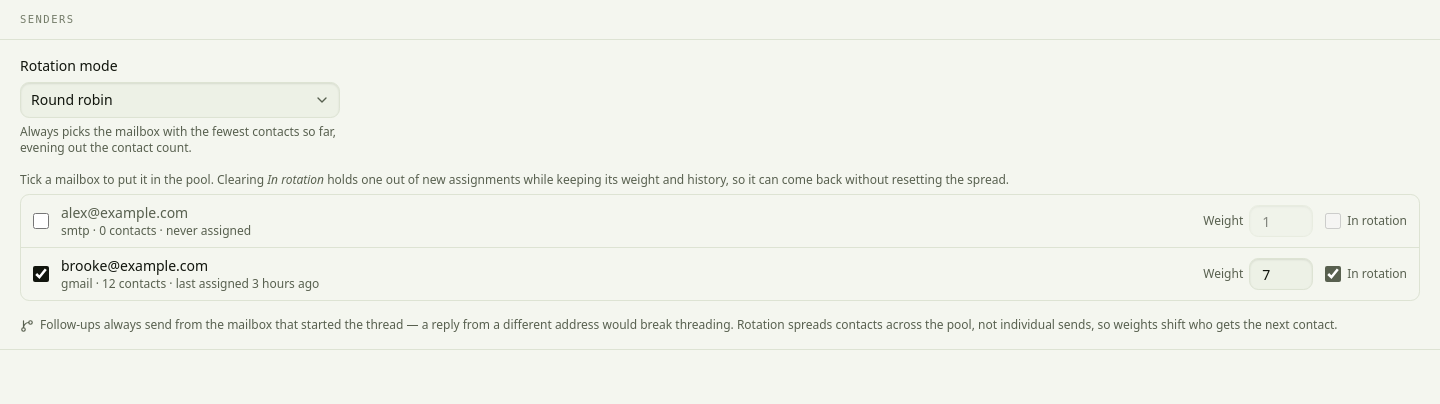
Scenario: SendersPanel › an out-of-range weight is caught client-side before any request
The width and height of the screenshot is (1440, 404).
Expected: the dropdown labelled "Rotation mode" is shown, [20,82,340,118]
Replace the text in the number field named "Weight for brooke@example.com" with "101" at (1281, 274), box [1249,258,1313,290]
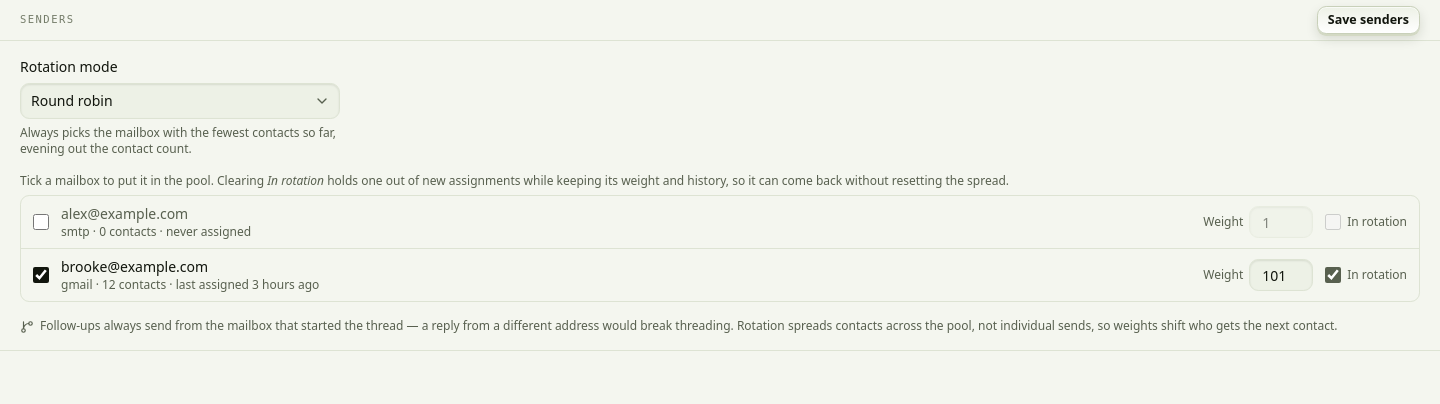
Click the button "Save senders" at (1368, 20), box [1317,6,1420,34]
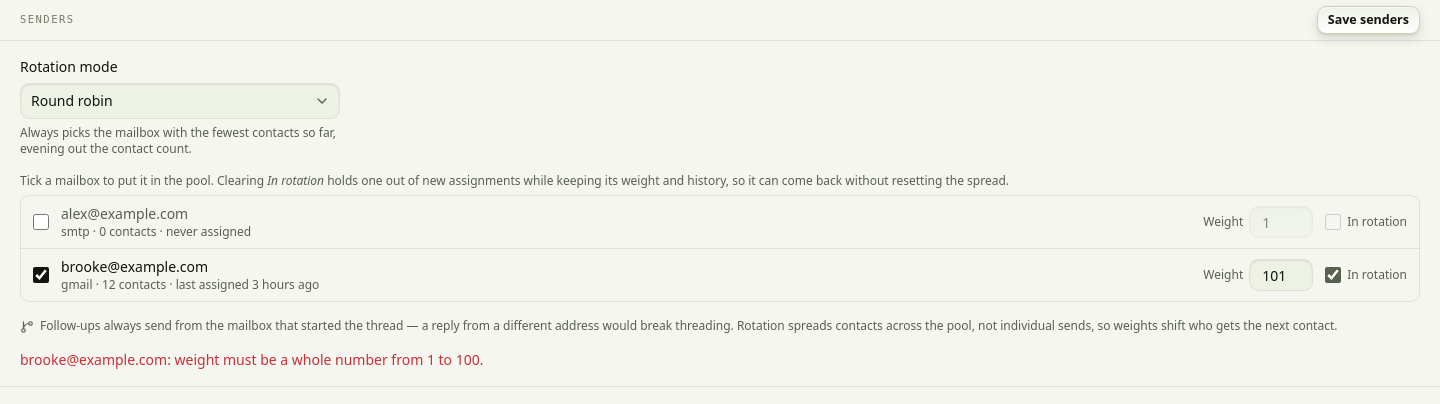
Expected: the message shows "weight must be a whole number from 1 to 100", [20,350,484,369]
